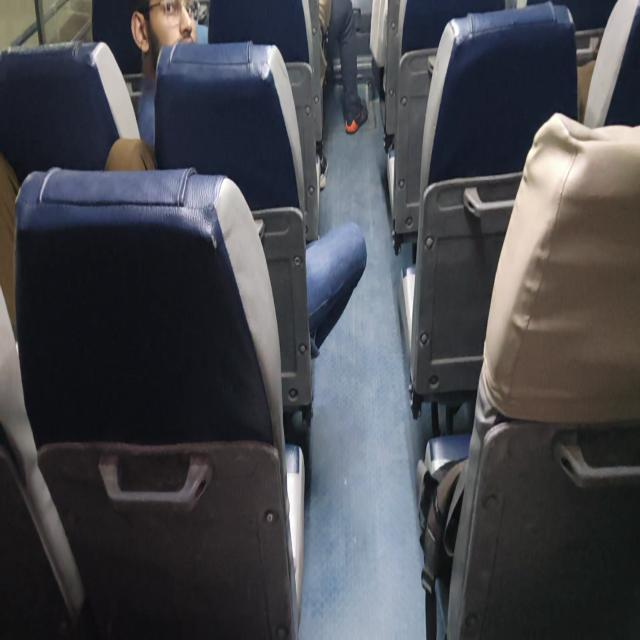person: (104, 0, 367, 359), (104, 0, 198, 171), (318, 0, 368, 135)
